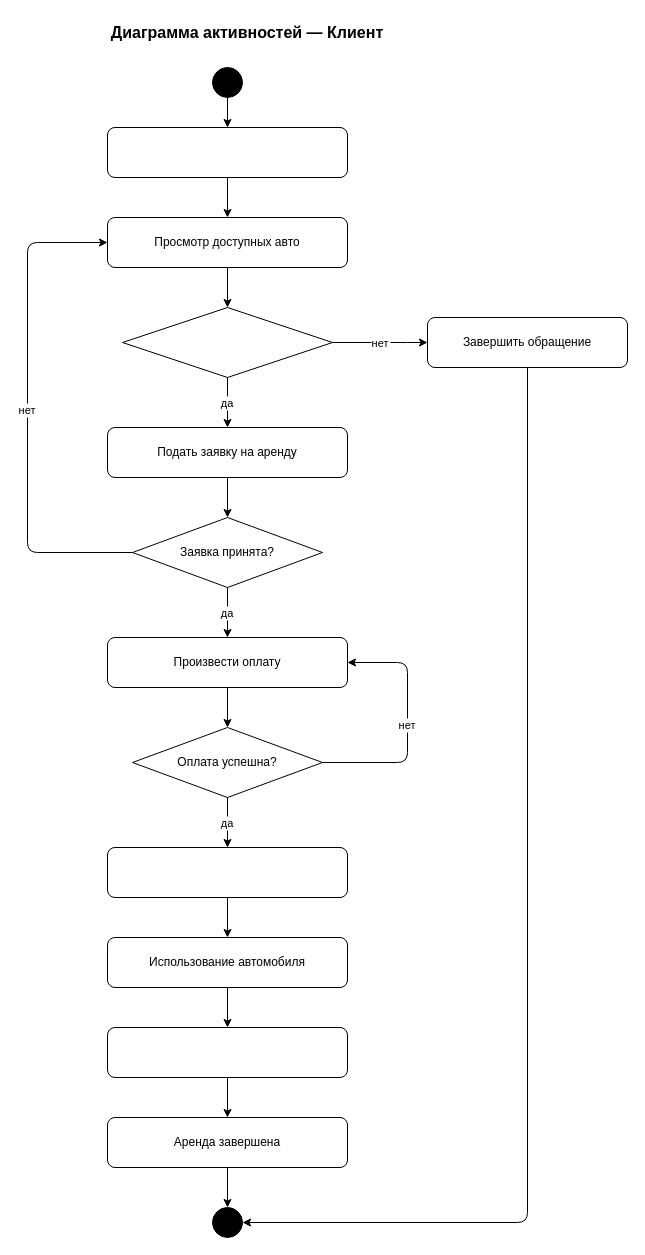
This 645x1255 diagram has some shape labels left out. The shapes that lost their labels are listed below. From the top down, each one's centre as x and y in pixels, then its label:
[227,152]: Обращение в каршеринг
[227,342]: Подходящее авто найдено?
[227,872]: Получить автомобиль
[227,1052]: Вернуть автомобиль
